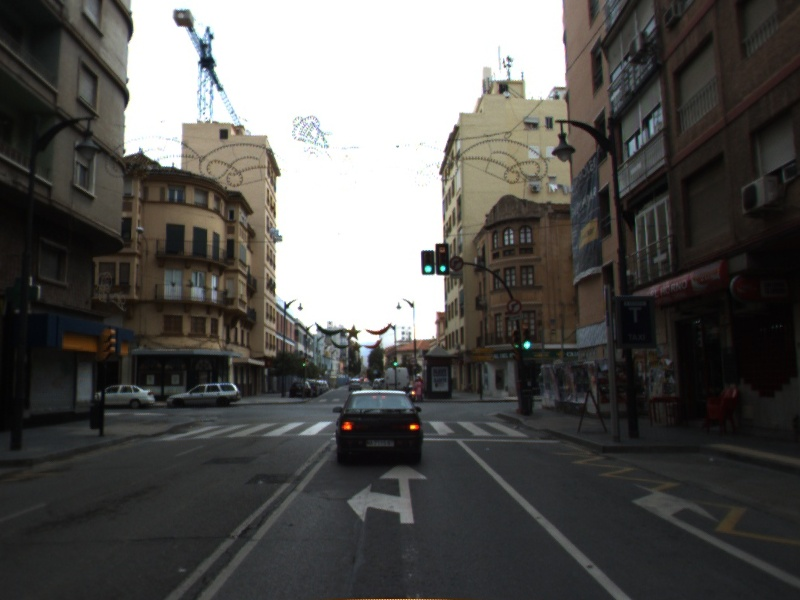RIGHT: (628, 479, 800, 587)
STRAIGHT_LEFT: (345, 461, 429, 525)
